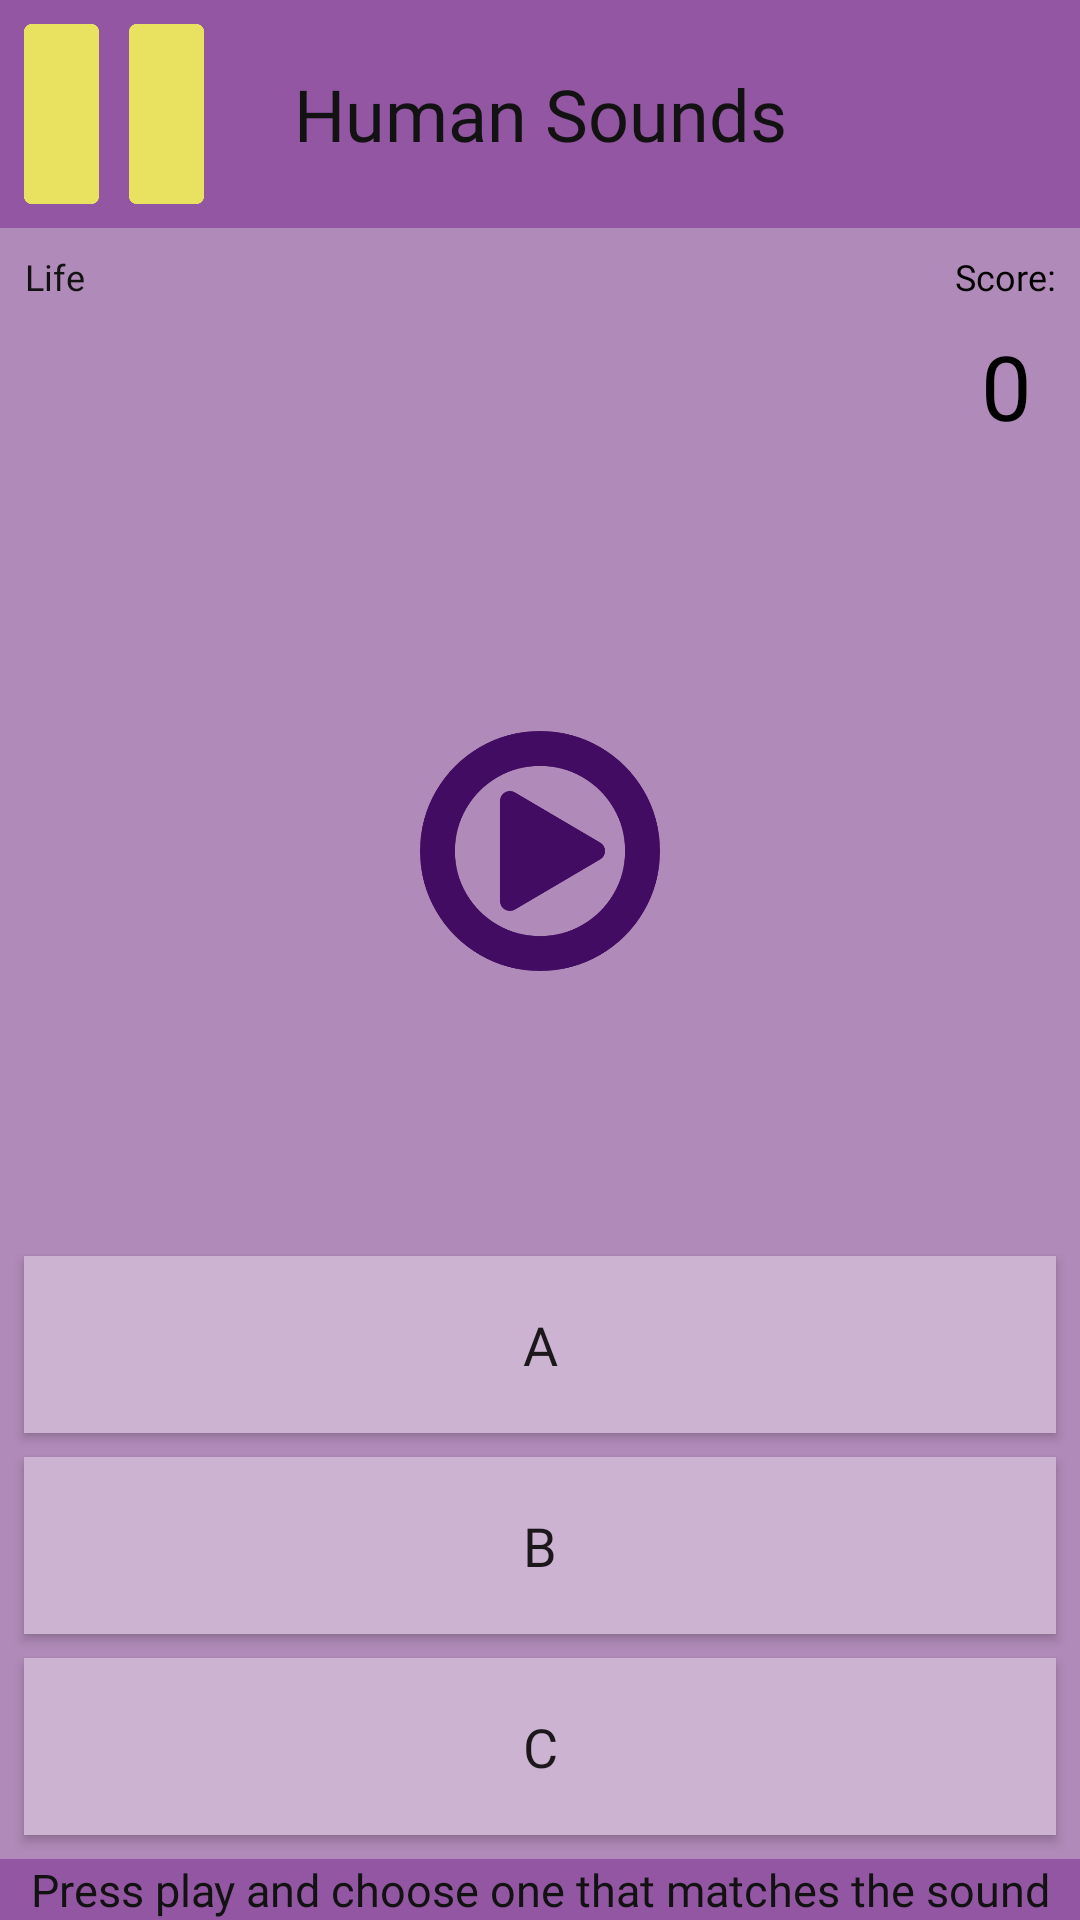

Icons on this 1080 x 1920 Android screen, each with the point to tap as (x=x, y=y):
pause: (x=114, y=114)
play: (x=540, y=851)
